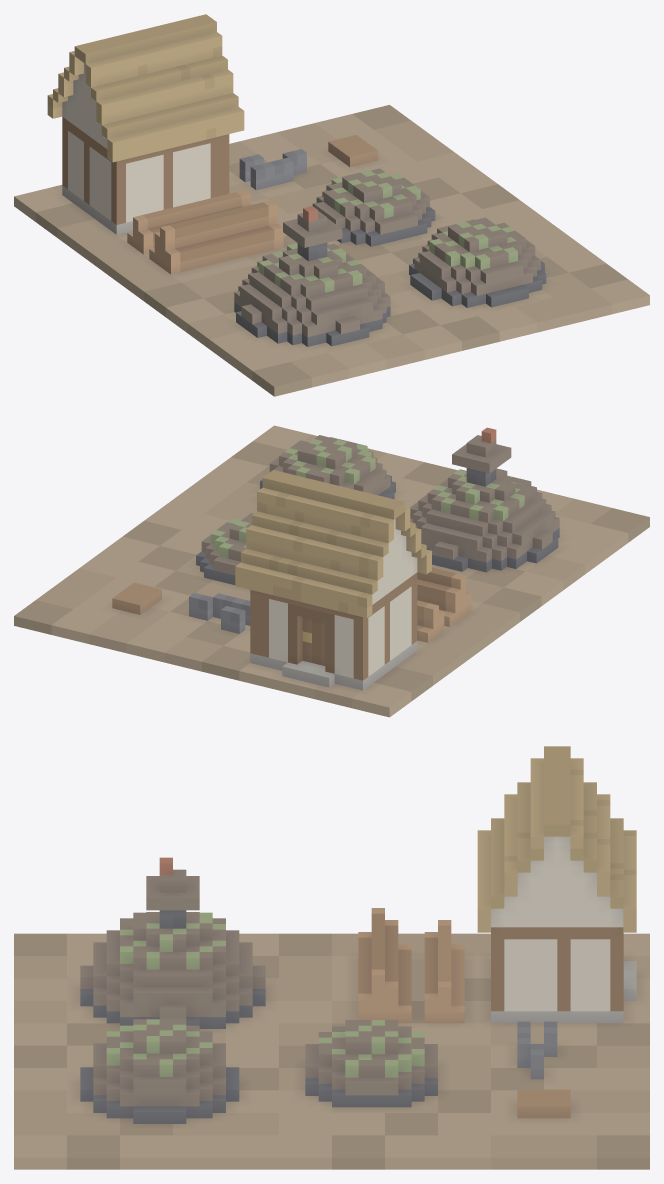
The model's file is charcoal_burner.glb.
3 views of the same model, one above another, from view 1: azimuth 30°, elevation 25°; view 2: azimuth 150°, elevation 25°; view 3: azimuth 270°, elevation 25° (orthographic). The views are drawn at different scales.
Parts seen in each view (by area): view 1: charcoal_burner; view 2: charcoal_burner; view 3: charcoal_burner.
Part boxes in pixels (x1,y1,x2,y2): charcoal_burner: (14,14,649,396); charcoal_burner: (14,425,649,717); charcoal_burner: (14,746,649,1169).
Bounding box in the file's own units: 5 × 2.25 × 6.
